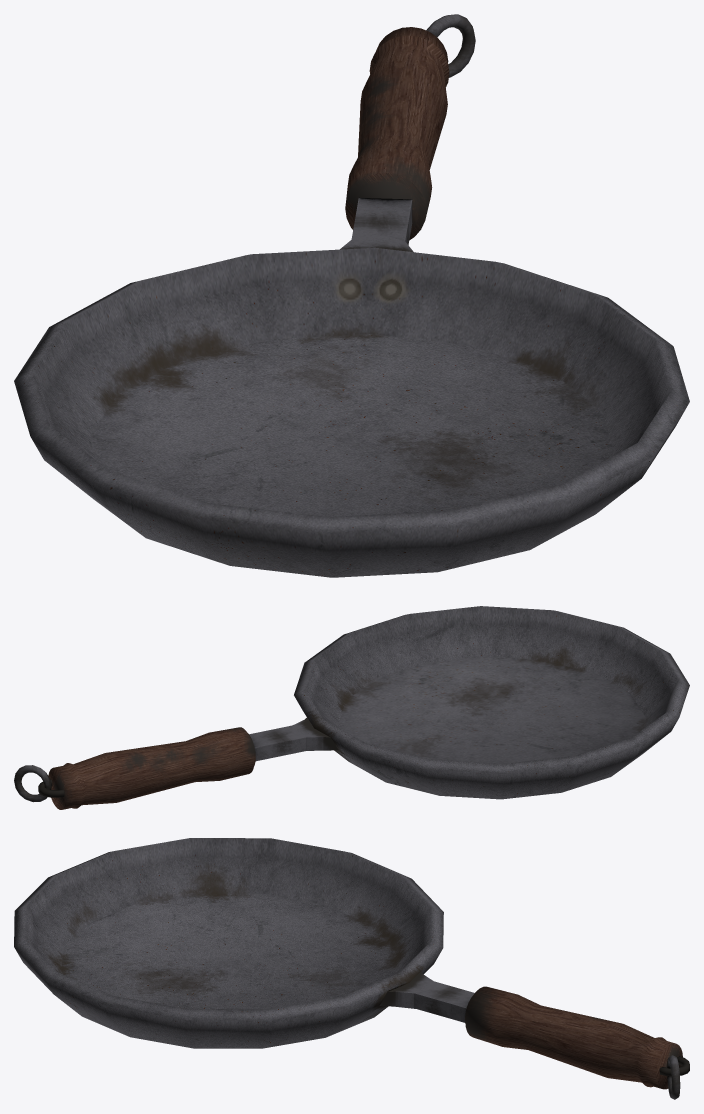
The picture shows the model from 3 angles, top to bottom: view 1: azimuth 30°, elevation 25°; view 2: azimuth 150°, elevation 25°; view 3: azimuth 270°, elevation 25°; orthographic projection. The views are drawn at different scales.
Parts seen in each view (by area): view 1: frying_pan; view 2: frying_pan; view 3: frying_pan.
Boxes of the visible parts, x1,y1,x2,y2 form: frying_pan: [14, 14, 689, 577]; frying_pan: [14, 606, 689, 809]; frying_pan: [14, 838, 689, 1099].
Size of the model in its own units: 1.34 by 0.1599 by 1.6.
Materials: 3 (3 with a texture image).
